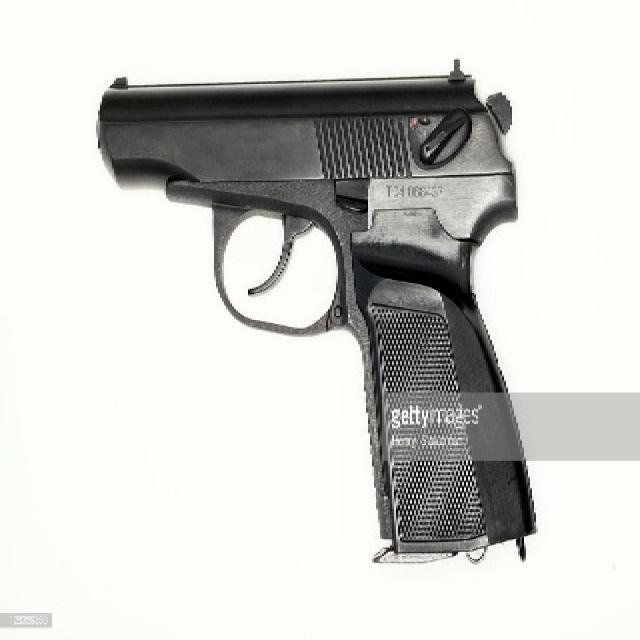weapon: (94, 64, 540, 565)
